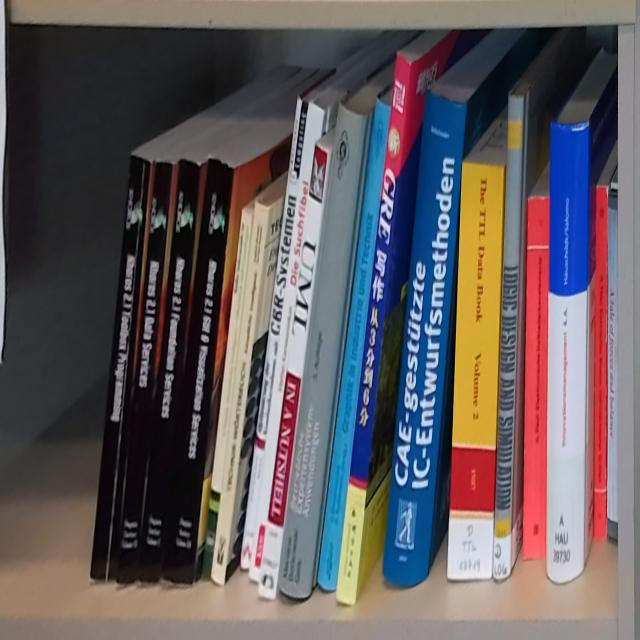Book Spine: (278, 104, 370, 597), (382, 91, 468, 585), (335, 53, 411, 608), (248, 103, 325, 586), (317, 98, 392, 593), (239, 97, 308, 572), (258, 144, 329, 600), (166, 158, 236, 585), (90, 155, 152, 582), (140, 158, 201, 582), (116, 160, 173, 583), (447, 162, 503, 581), (210, 201, 270, 587), (546, 118, 590, 585), (202, 210, 253, 579), (492, 95, 526, 582), (523, 198, 551, 562), (593, 185, 608, 541), (607, 187, 619, 545)
